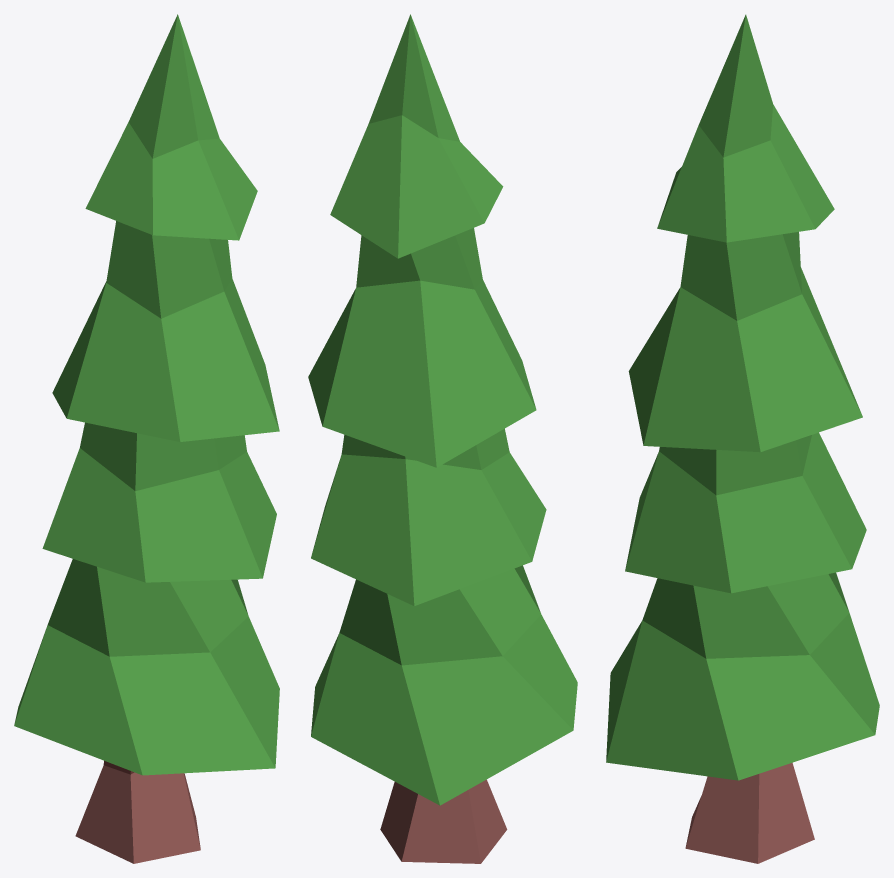
Rendered from arbol pino 8.fbx.
The picture shows the model from 3 angles, left to right: view 1: azimuth 30°, elevation 25°; view 2: azimuth 150°, elevation 25°; view 3: azimuth 270°, elevation 25°; orthographic projection. The views are drawn at different scales.
Parts seen in each view (by area): view 1: SpruceTree3; view 2: SpruceTree3; view 3: SpruceTree3.
Boxes of the visible parts, x1,y1,x2,y2 form: SpruceTree3: (14,14,279,863); SpruceTree3: (308,14,577,863); SpruceTree3: (606,14,879,863).
Bounding box in the file's own units: 11191 × 33276 × 9848.
